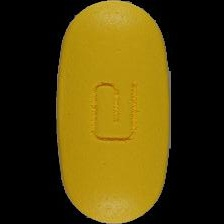0074-7804: (0, 0, 224, 224)
